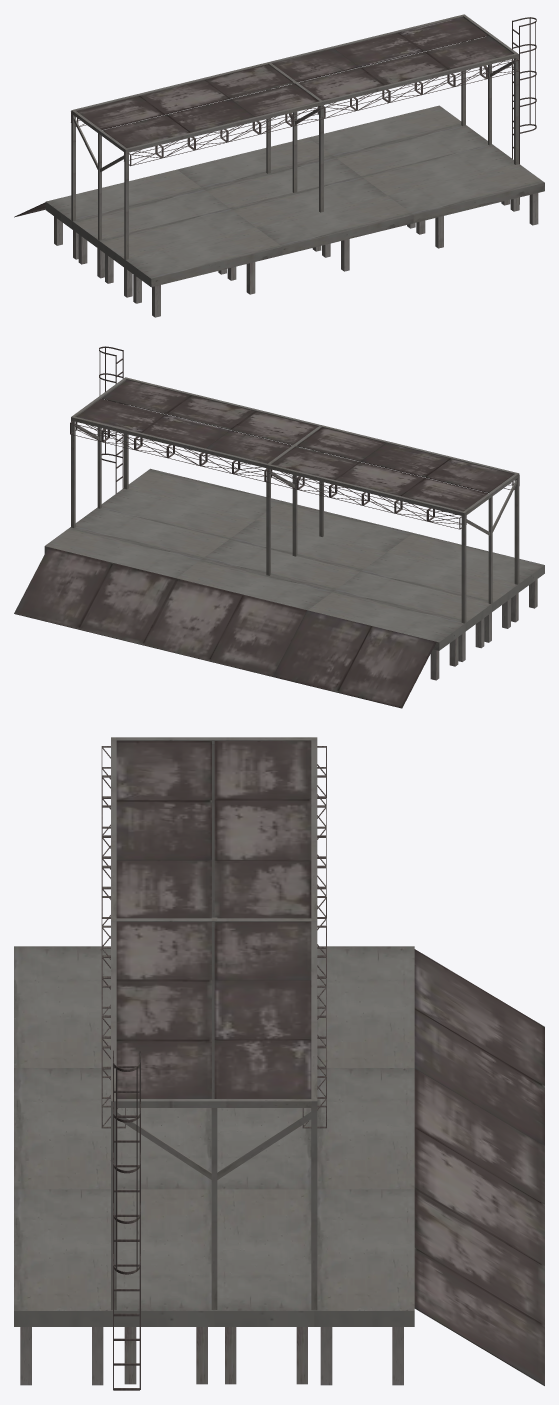
The model's file is Open_Building.glb.
The picture shows the model from 3 angles, top to bottom: view 1: azimuth 30°, elevation 25°; view 2: azimuth 150°, elevation 25°; view 3: azimuth 270°, elevation 25°; orthographic projection. The views are drawn at different scales.
Parts seen in each view (by area): view 1: Open_Building; view 2: Open_Building; view 3: Open_Building.
Part boxes in pixels (bbox=[...]): Open_Building: bbox=[14, 14, 544, 317]; Open_Building: bbox=[14, 346, 544, 708]; Open_Building: bbox=[14, 737, 544, 1390].
Bounding box in the file's own units: 24.02 × 9.91 × 14.03.
Materials: 1 (1 with a texture image).
